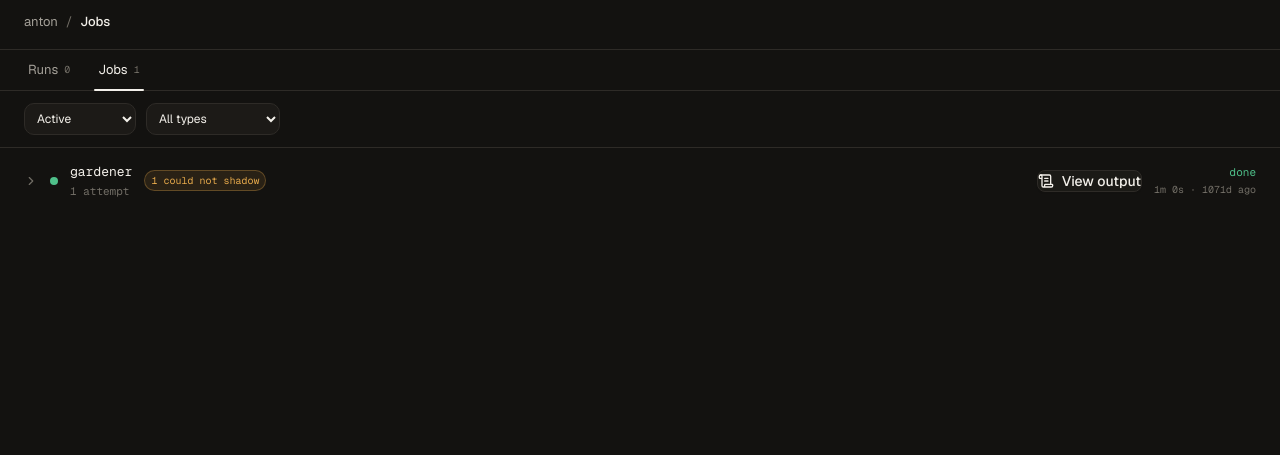
Test: jobs page — what each pass applied, shadowed and refused › separates a shadow that broke from an apply that broke — one of them touched the board
The image size is (1280, 455).
Click the button "gardener 1 attempt 1 could not shadow" at (101, 171), box [24,162,1025,200]
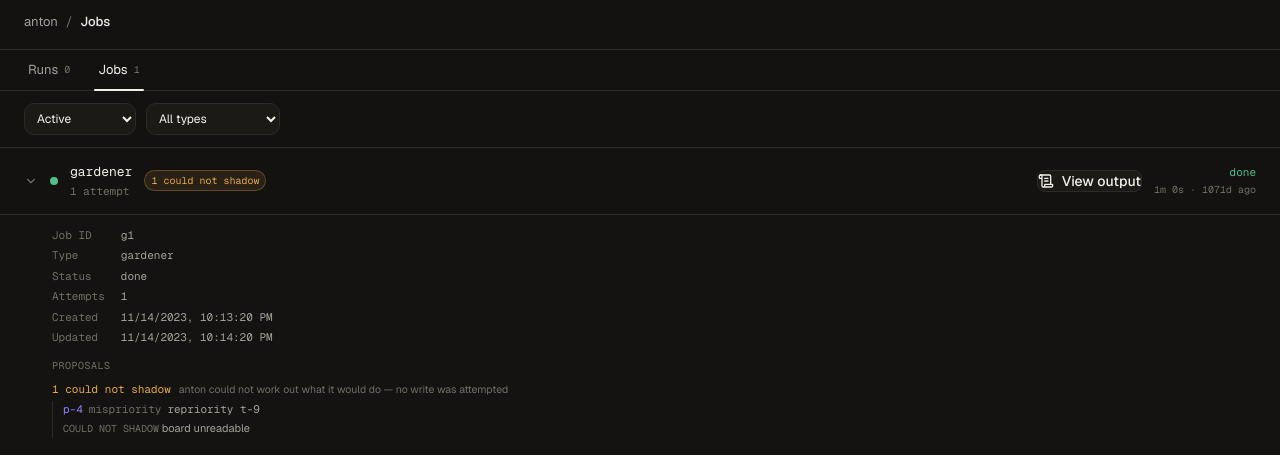
Expected: the text "1 could not shadow" below "Proposals" is shown, [52,380,171,397]
Expected: the text "no write was attempted" is shown, [179,382,508,396]
